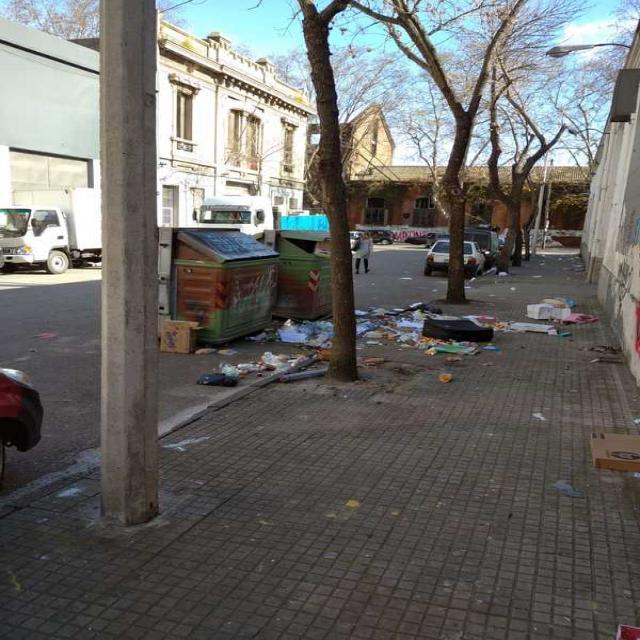garbage: (354, 298, 504, 366), (182, 348, 344, 394), (506, 288, 605, 340), (244, 316, 344, 354), (579, 424, 640, 482)
